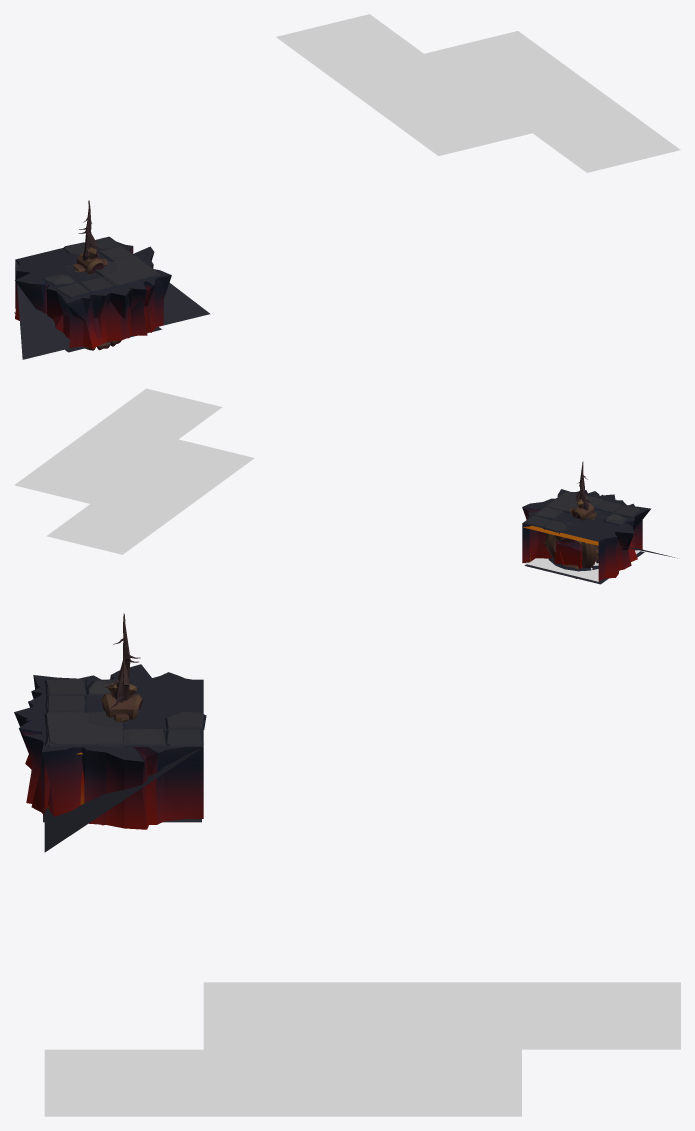
File: lava_world.glb
The picture shows the model from 3 angles, top to bottom: view 1: azimuth 30°, elevation 25°; view 2: azimuth 150°, elevation 25°; view 3: azimuth 270°, elevation 25°; orthographic projection. The views are drawn at different scales.
Visible parts, largest first — view 1: lava_pit_lava, lava_pit_corner_lava, lava_pit_inner_corner_B_soil, lava_pit_inner_corner_A_soil, corner_A, lava_pit_middle_A.soil, lava_pit_middle_B.soil, lava_pit_middle_B.lava, lava_pit_middle_A.lava, corner_B, ramp_left, middle_B (+9 smaller); view 2: lava_pit_lava, lava_pit_corner_lava, lava_pit_inner_corner_B_soil, lava_pit_inner_corner_A_soil, corner_A, lava_pit_middle_A.soil, lava_pit_middle_B.soil, lava_pit_middle_B.lava, lava_pit_middle_A.lava, inner_A, lava_pit_inner_corner_A_lava, lava_pit_inner_corner_B_lava (+10 smaller); view 3: corner_B, lava_pit_lava, lava_pit_corner_lava, lava_pit_inner_corner_B_soil, lava_pit_inner_corner_A_soil, lava_pit_middle_A.soil, lava_pit_middle_B.soil, lava_pit_middle_B.lava, lava_pit_middle_A.lava, ruin_D, lava_pit_inner_corner_A_lava, lava_pit_inner_corner_B_lava (+8 smaller).
Boxes of the visible parts, x1=… form: lava_pit_lava: x1=384, y1=93, x2=531, y2=156; lava_pit_corner_lava: x1=330, y1=54, x2=477, y2=104; lava_pit_inner_corner_B_soil: x1=424, y1=43, x2=571, y2=93; lava_pit_inner_corner_A_soil: x1=276, y1=25, x2=423, y2=76; corner_A: x1=15, y1=237, x2=163, y2=349; lava_pit_middle_A.soil: x1=478, y1=83, x2=576, y2=133; lava_pit_middle_B.soil: x1=533, y1=122, x2=631, y2=172; lava_pit_middle_B.lava: x1=578, y1=110, x2=680, y2=161; lava_pit_middle_A.lava: x1=522, y1=70, x2=625, y2=122; corner_B: x1=25, y1=238, x2=171, y2=348; ramp_left: x1=15, y1=260, x2=69, y2=359; middle_B: x1=22, y1=237, x2=163, y2=347; lava_pit_lava: x1=135, y1=439, x2=254, y2=490; lava_pit_corner_lava: x1=91, y1=471, x2=188, y2=522; lava_pit_inner_corner_B_soil: x1=37, y1=453, x2=133, y2=503; lava_pit_inner_corner_A_soil: x1=69, y1=504, x2=166, y2=554; corner_A: x1=523, y1=492, x2=650, y2=581; lava_pit_middle_A.soil: x1=99, y1=430, x2=177, y2=471; lava_pit_middle_B.soil: x1=142, y1=398, x2=222, y2=439; lava_pit_middle_B.lava: x1=102, y1=388, x2=185, y2=430; lava_pit_middle_A.lava: x1=58, y1=421, x2=141, y2=462; inner_A: x1=522, y1=509, x2=642, y2=563; lava_pit_inner_corner_A_lava: x1=46, y1=520, x2=107, y2=545; lava_pit_inner_corner_B_lava: x1=14, y1=468, x2=75, y2=494; corner_B: x1=14, y1=679, x2=203, y2=829; lava_pit_lava: x1=203, y1=982, x2=362, y2=1049; lava_pit_corner_lava: x1=363, y1=982, x2=521, y2=1049; lava_pit_inner_corner_B_soil: x1=363, y1=1049, x2=521, y2=1116; lava_pit_inner_corner_A_soil: x1=522, y1=982, x2=680, y2=1049; lava_pit_middle_A.soil: x1=203, y1=1049, x2=362, y2=1086; lava_pit_middle_B.soil: x1=44, y1=1049, x2=203, y2=1087; lava_pit_middle_B.lava: x1=44, y1=1080, x2=203, y2=1116; lava_pit_middle_A.lava: x1=203, y1=1080, x2=362, y2=1116; ruin_D: x1=44, y1=679, x2=203, y2=746; lava_pit_inner_corner_A_lava: x1=589, y1=1011, x2=680, y2=1049; lava_pit_inner_corner_B_lava: x1=431, y1=1077, x2=521, y2=1116.
Size of the model in its own units: 14 by 2.71 by 8.39.
Materials: 2 (2 with a texture image).
